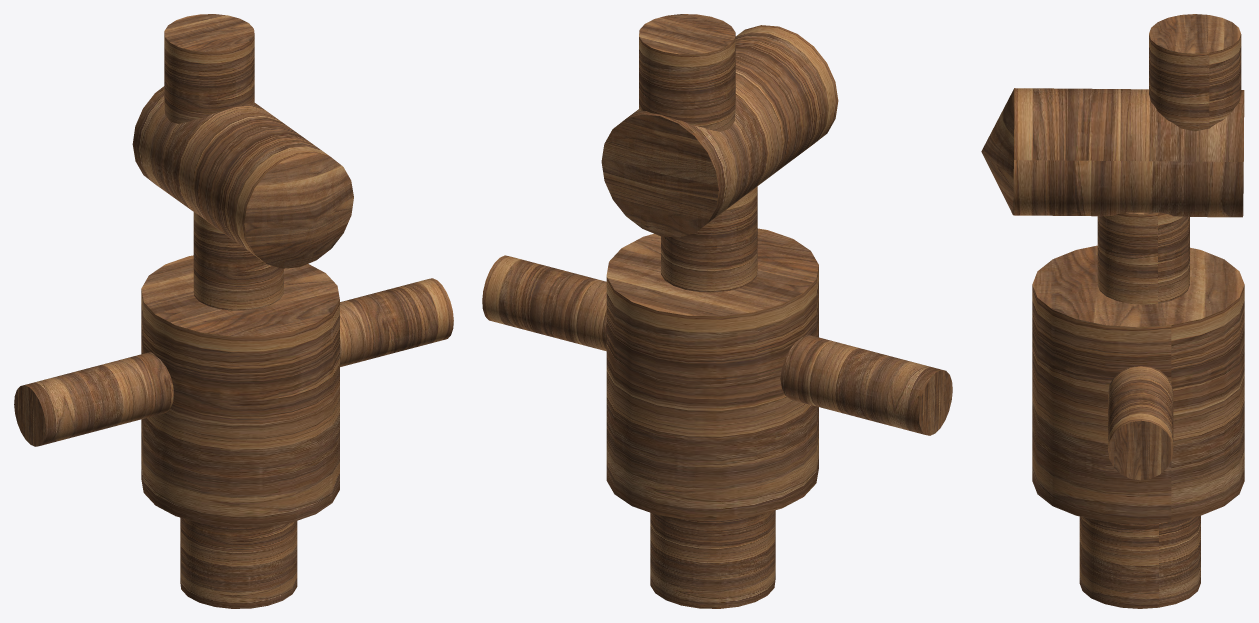
Rendered from Wood Dummy.fbx.
3 views of the same model, side by side, from view 1: azimuth 30°, elevation 25°; view 2: azimuth 150°, elevation 25°; view 3: azimuth 270°, elevation 25° (orthographic). The views are drawn at different scales.
Visible parts, largest first — view 1: pCylinder2, pCylinder6, pCylinder3, pCylinder1, pCylinder7, pCylinder4, pCylinder5; view 2: pCylinder2, pCylinder6, pCylinder3, pCylinder1, pCylinder7, pCylinder4, pCylinder5; view 3: pCylinder2, pCylinder6, pCylinder1, pCylinder7, pCylinder5, pCylinder4.
Part boxes in pixels (<box>): pCylinder2: <box>141,255,339,527</box>; pCylinder6: <box>132,86,353,268</box>; pCylinder3: <box>14,352,173,446</box>; pCylinder1: <box>180,517,297,608</box>; pCylinder7: <box>164,14,254,123</box>; pCylinder4: <box>340,278,453,366</box>; pCylinder5: <box>193,212,283,310</box>; pCylinder2: <box>606,228,818,520</box>; pCylinder6: <box>601,25,838,237</box>; pCylinder3: <box>780,334,952,435</box>; pCylinder1: <box>650,510,775,608</box>; pCylinder7: <box>639,14,735,131</box>; pCylinder4: <box>482,255,606,351</box>; pCylinder5: <box>661,186,757,292</box>; pCylinder2: <box>1032,245,1244,523</box>; pCylinder6: <box>981,88,1244,217</box>; pCylinder1: <box>1079,515,1200,608</box>; pCylinder7: <box>1149,14,1241,131</box>; pCylinder5: <box>1097,212,1189,304</box>; pCylinder4: <box>1108,366,1173,480</box>.
Size of the model in its own units: 3.02 by 3.76 by 1.64.
1 material, 1 textured.
